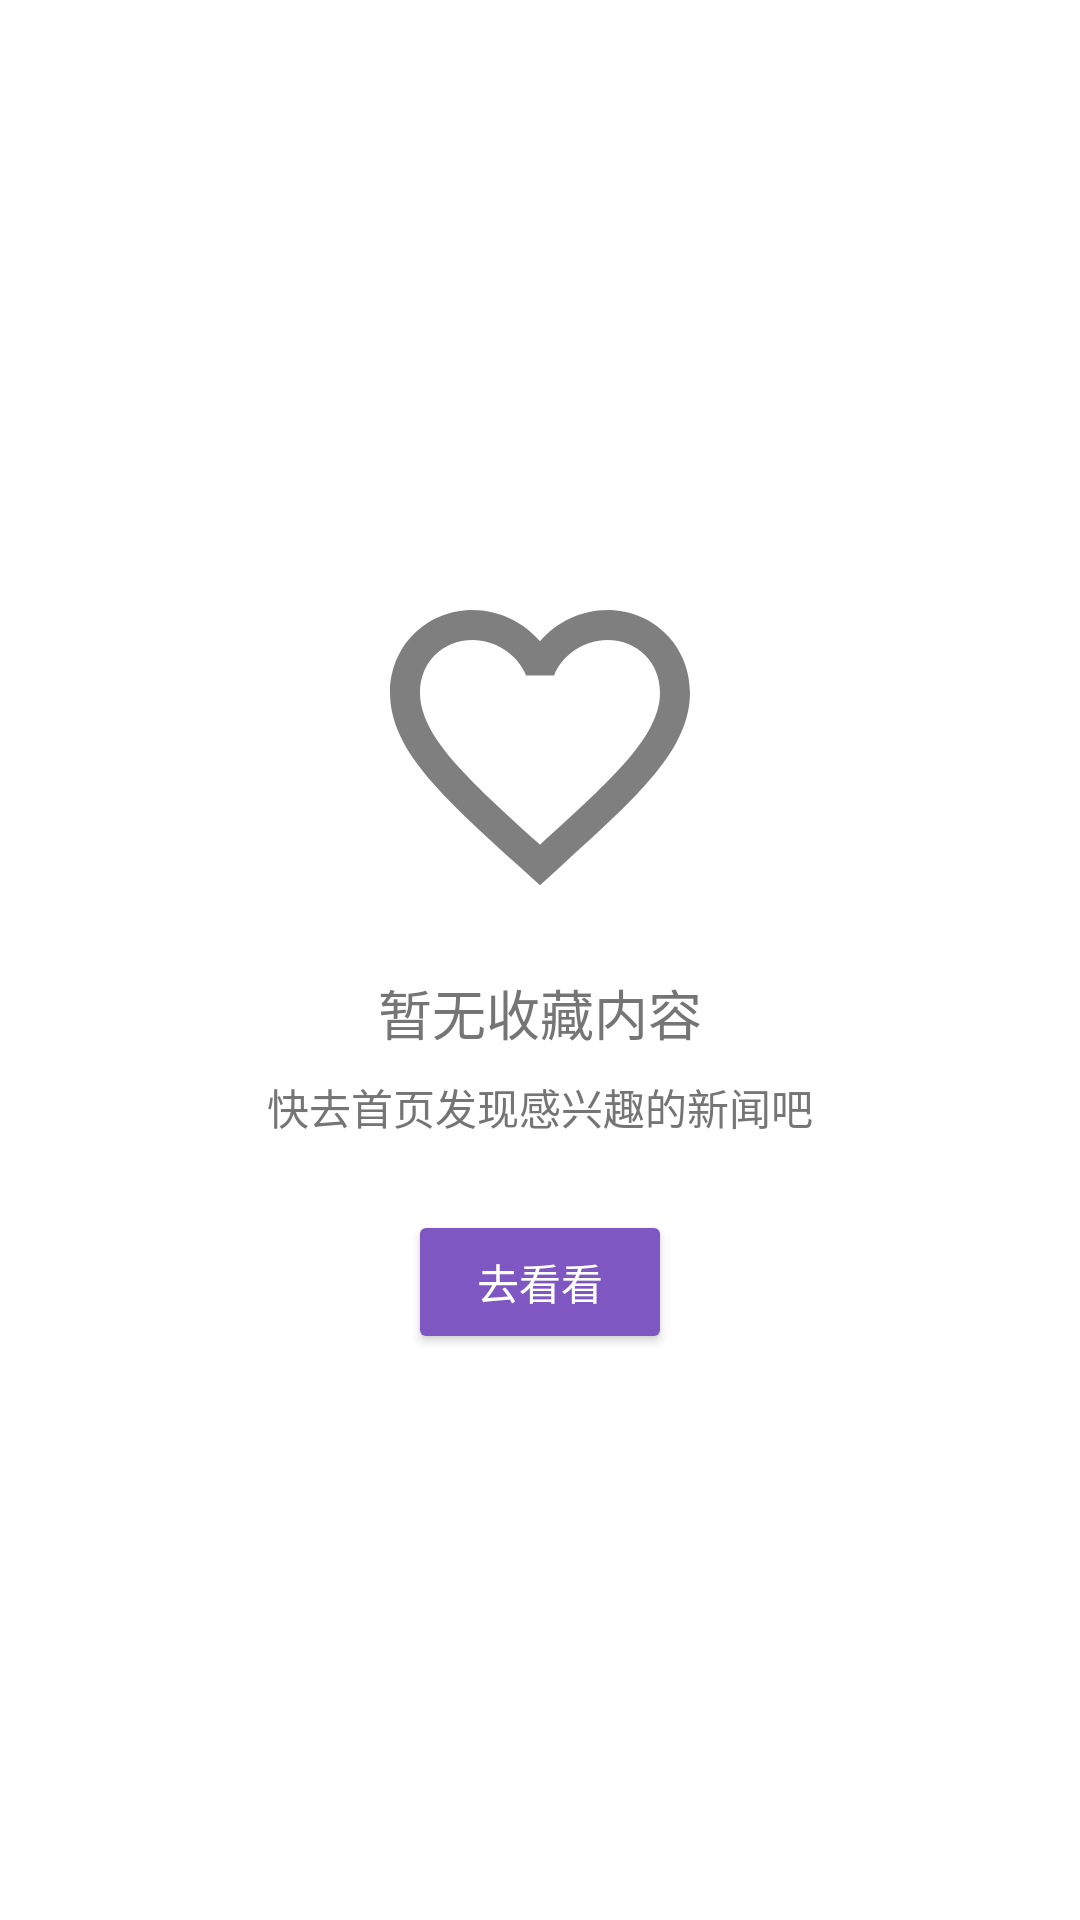

Icon click points for this 1080x1920 phone screenshot, format [x,y]:
favorite border: [540,747]
